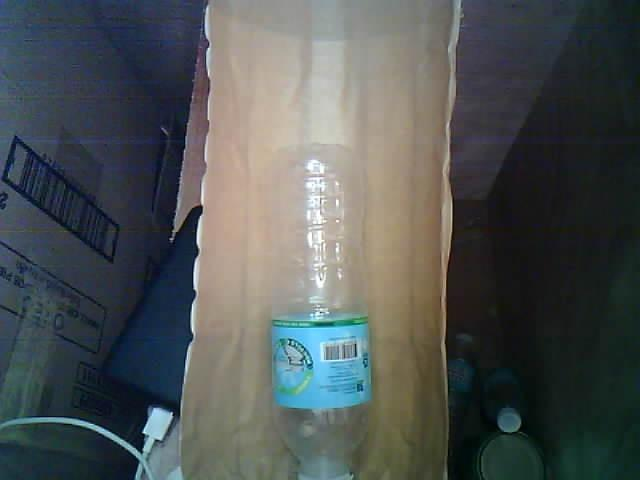small_bottle: (250, 144, 386, 480)
